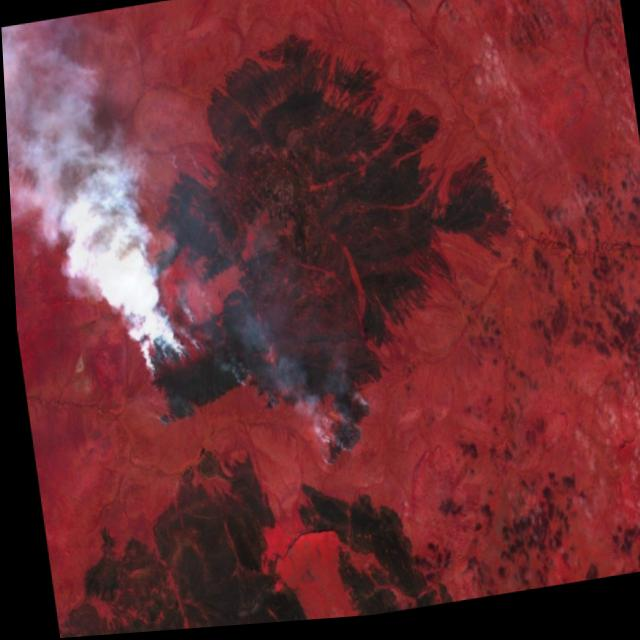fire: (105, 148, 256, 440), (304, 389, 378, 480)
